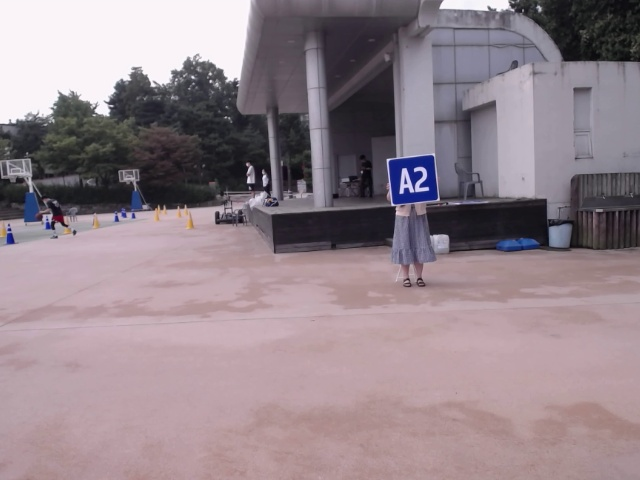delivery_a2: (388, 154, 440, 205)
